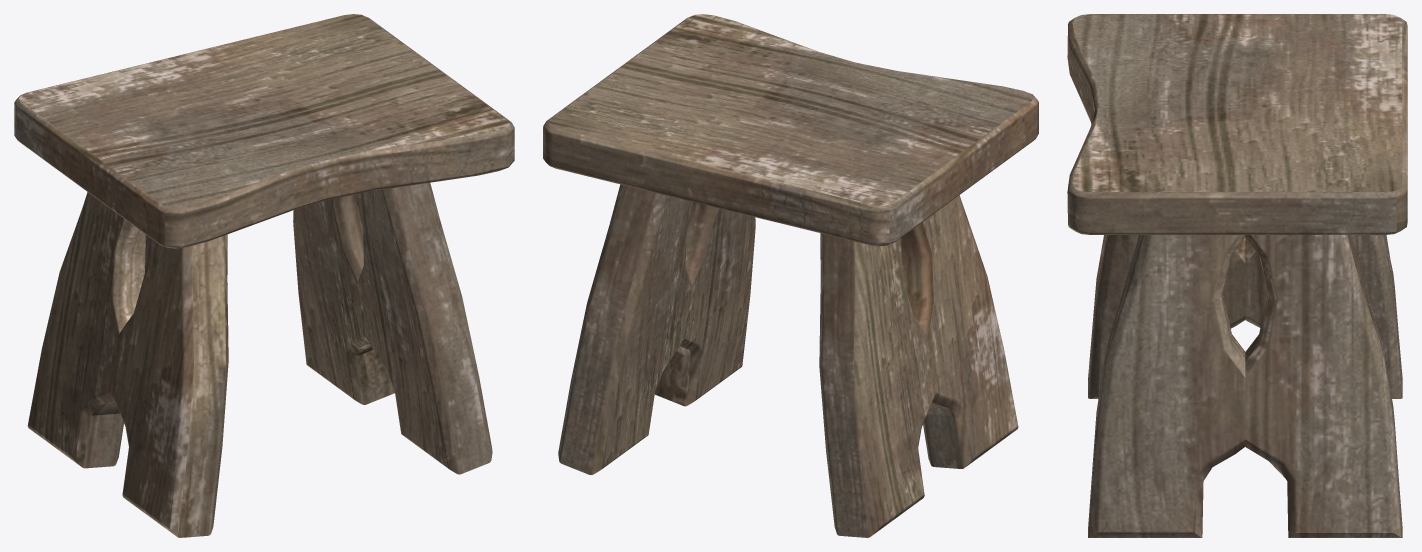
File: SM_Stool_Short.fbx
The picture shows the model from 3 angles, left to right: view 1: azimuth 30°, elevation 25°; view 2: azimuth 150°, elevation 25°; view 3: azimuth 270°, elevation 25°; orthographic projection. The views are drawn at different scales.
Parts seen in each view (by area): view 1: SM_Stool_Short_LOD0; view 2: SM_Stool_Short_LOD0; view 3: SM_Stool_Short_LOD0.
Part boxes in pixels (x1,y1,x2,y2): SM_Stool_Short_LOD0: [14, 14, 514, 537]; SM_Stool_Short_LOD0: [543, 14, 1038, 537]; SM_Stool_Short_LOD0: [1067, 14, 1407, 537].
Size of the model in its own units: 51.38 by 40.5 by 47.33.
Materials: 1 (1 with a texture image).
